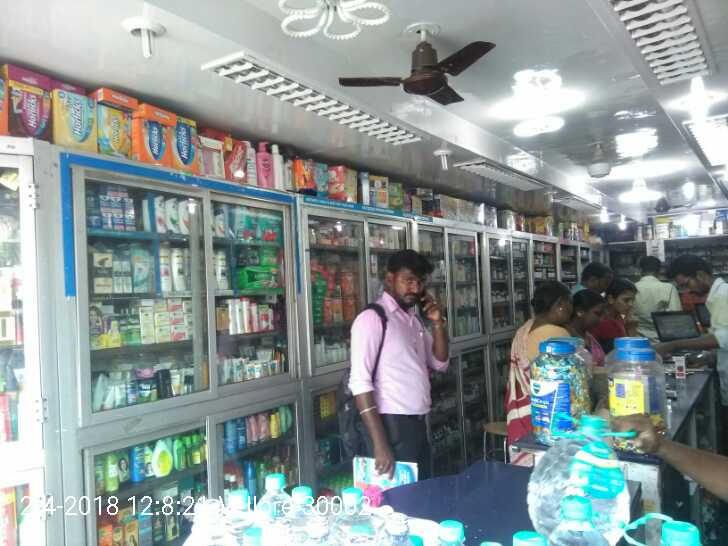vicks: (82, 179, 138, 234)
